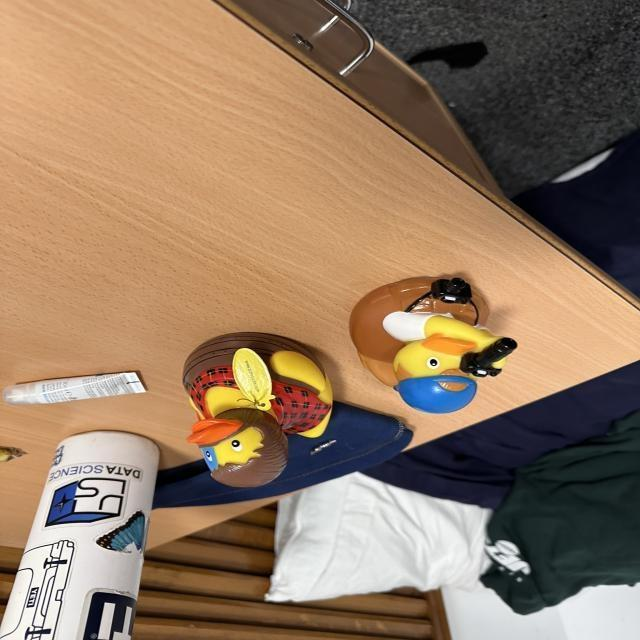rubber-duck: (182, 331, 331, 485), (349, 276, 515, 411)
